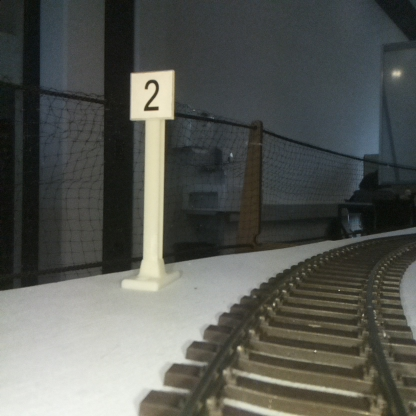white-info-2: (130, 70, 174, 288)
